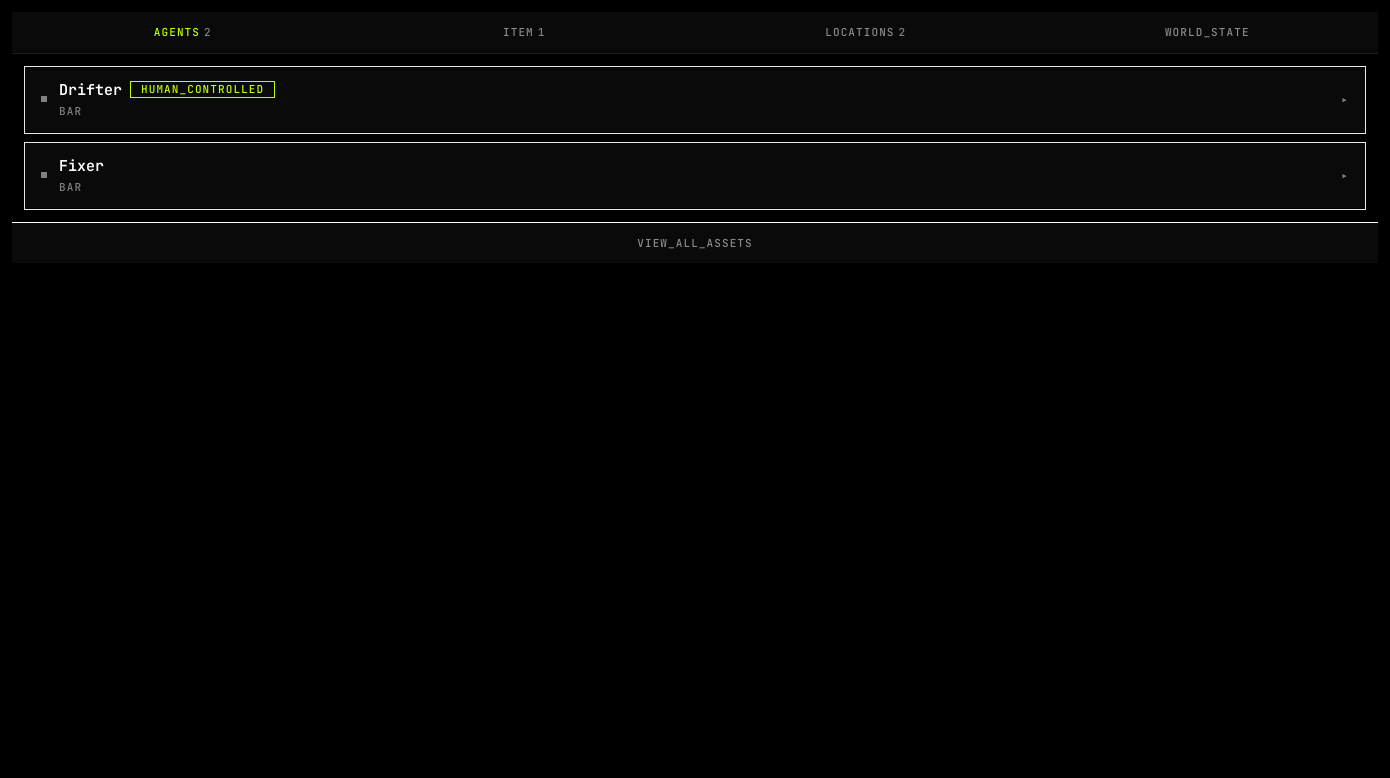
AssetPanel human control › shows the inline manual panel with the clearer toggle label
The width and height of the screenshot is (1390, 778).
Click the button "Drifter human_controlled Bar ▸": [91, 90] box [25,66,1365,132]
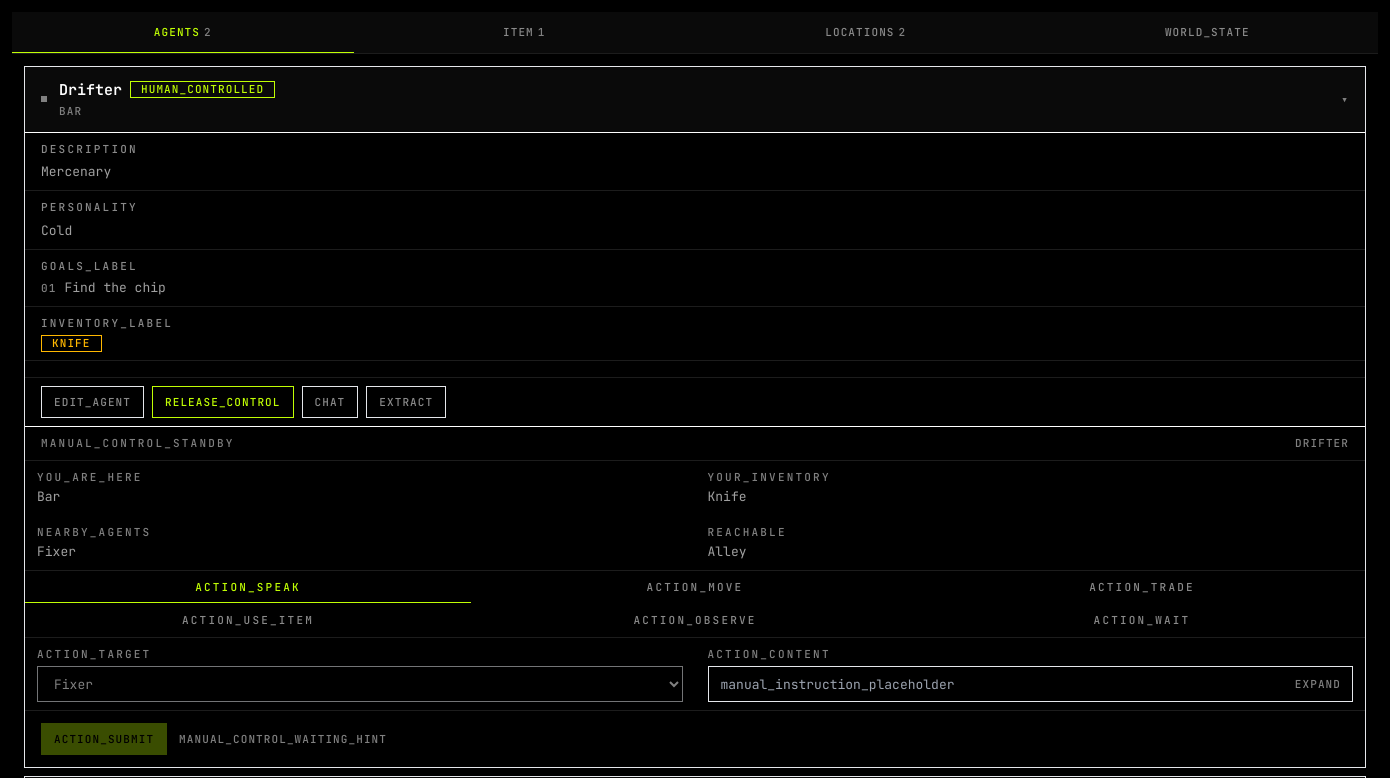
Check: the text "release_control" is shown, box [165,395,280,409]
Check: the text "manual_control_standby" is shown, box [41,435,235,452]
Check: the text "manual_control_waiting_hint" is shown, box [179,732,387,746]
